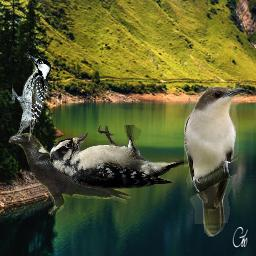Crow: (7, 133, 132, 217)
Cuckoo: (184, 86, 248, 237)
Woodpecker: (50, 125, 194, 189), (12, 53, 51, 142)
